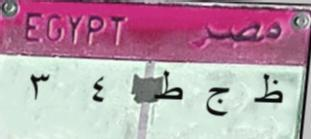3: (20, 66, 53, 106)
4: (82, 72, 116, 107)
Taa: (145, 68, 188, 109)
Thaa: (252, 72, 288, 113)
jeem: (197, 80, 239, 128)
